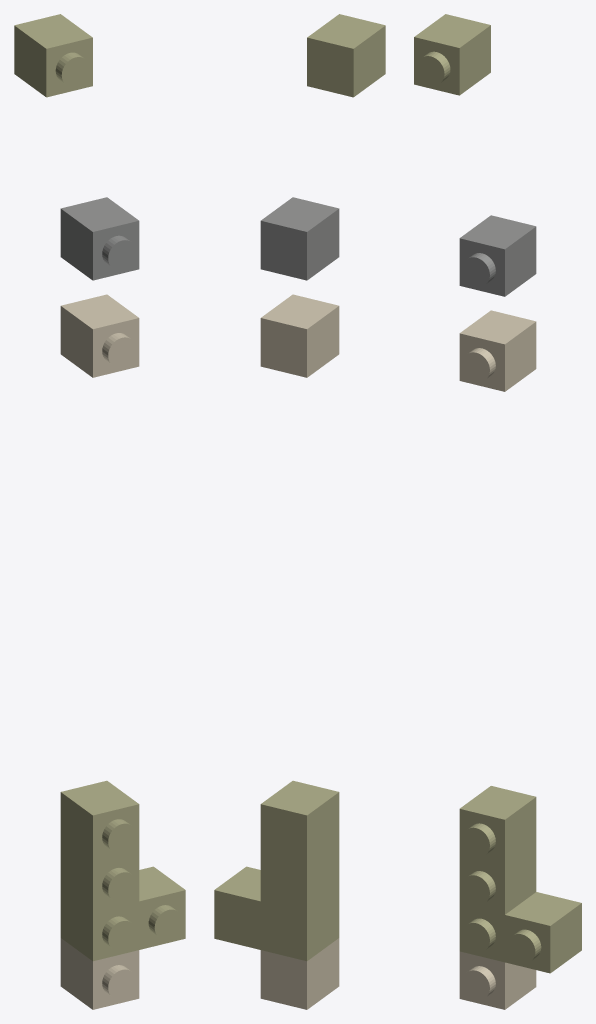
Rendered from current.glb.
3 views of the same model, side by side, from view 1: azimuth 30°, elevation 25°; view 2: azimuth 150°, elevation 25°; view 3: azimuth 330°, elevation 25° (orthographic). The views are drawn at different scales.
Parts seen in each view (by area): view 1: world; view 2: world; view 3: world.
Boxes of the visible parts, box(x1,y1,x2,y2) form: world: box(14, 14, 185, 1009); world: box(214, 14, 385, 1009); world: box(414, 14, 581, 1009).
Size of the model in its own units: 24 by 160 by 11.4.
